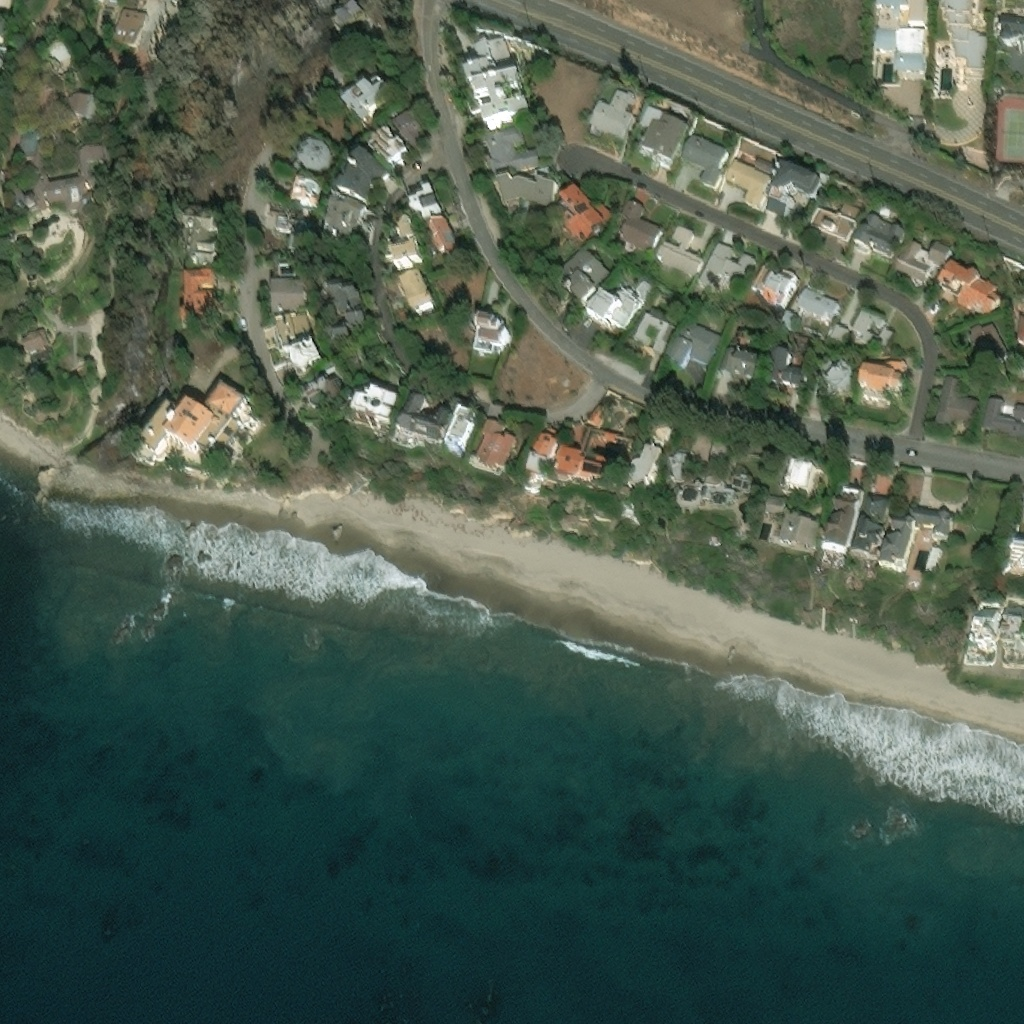0 no-damage: (139, 380, 260, 461), (9, 138, 111, 224), (463, 37, 531, 129), (556, 429, 635, 495), (877, 507, 952, 573), (657, 320, 721, 392), (875, 0, 927, 79), (339, 71, 404, 131), (809, 176, 865, 243), (963, 602, 1023, 664), (337, 151, 398, 211), (941, 0, 989, 74), (587, 278, 655, 330), (762, 494, 822, 551), (778, 286, 839, 342), (495, 168, 558, 222), (939, 262, 1002, 316), (395, 399, 455, 454), (560, 186, 614, 247), (639, 105, 691, 166), (764, 161, 820, 217), (324, 198, 377, 254), (699, 240, 755, 293), (822, 486, 862, 559), (725, 155, 777, 211), (484, 128, 542, 177), (894, 235, 954, 282), (562, 249, 609, 307), (682, 133, 729, 190), (588, 91, 638, 144), (617, 200, 663, 256), (850, 493, 888, 560), (656, 224, 701, 279), (854, 213, 906, 260), (341, 392, 400, 433), (180, 273, 221, 328), (935, 375, 979, 426), (586, 391, 638, 434), (331, 287, 368, 347), (389, 273, 434, 322), (477, 422, 517, 476), (183, 214, 222, 268), (751, 264, 797, 308), (109, 5, 148, 55), (967, 322, 1011, 366), (368, 130, 413, 173), (526, 429, 561, 482), (982, 396, 1023, 441), (633, 313, 676, 355), (629, 447, 664, 498), (860, 360, 906, 398), (301, 366, 347, 404), (390, 110, 429, 152), (821, 360, 857, 405), (275, 216, 316, 255), (851, 306, 892, 345), (770, 348, 808, 390), (678, 485, 737, 512), (429, 222, 466, 265), (274, 314, 314, 352), (447, 414, 477, 464), (474, 318, 510, 358), (409, 186, 443, 227), (290, 342, 324, 382), (720, 346, 761, 379), (271, 279, 308, 315), (296, 141, 334, 175), (786, 461, 823, 493), (333, 4, 364, 37), (665, 449, 691, 487), (1001, 12, 1023, 53), (392, 247, 424, 275), (65, 100, 96, 128), (291, 179, 320, 206), (22, 333, 49, 358), (1005, 542, 1023, 578), (651, 423, 673, 448), (927, 549, 942, 577), (399, 224, 416, 248), (828, 325, 848, 344), (1016, 315, 1023, 345), (0, 0, 12, 15), (0, 25, 7, 42), (301, 207, 312, 217)
